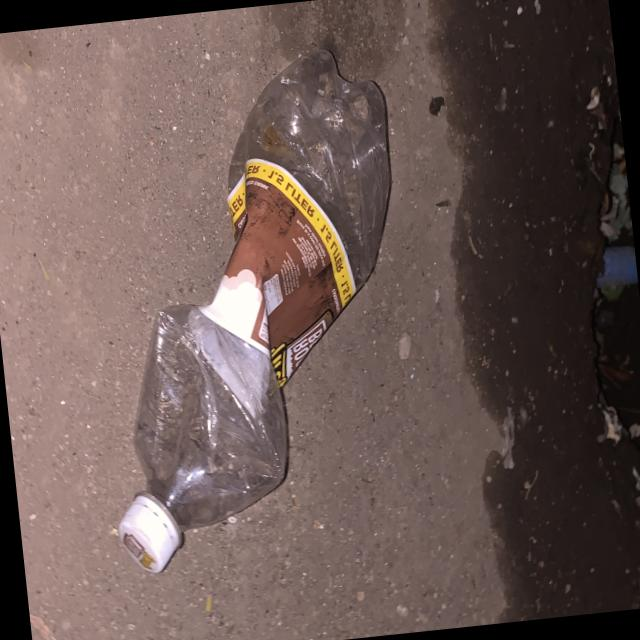Bottle: (118, 49, 391, 571)
